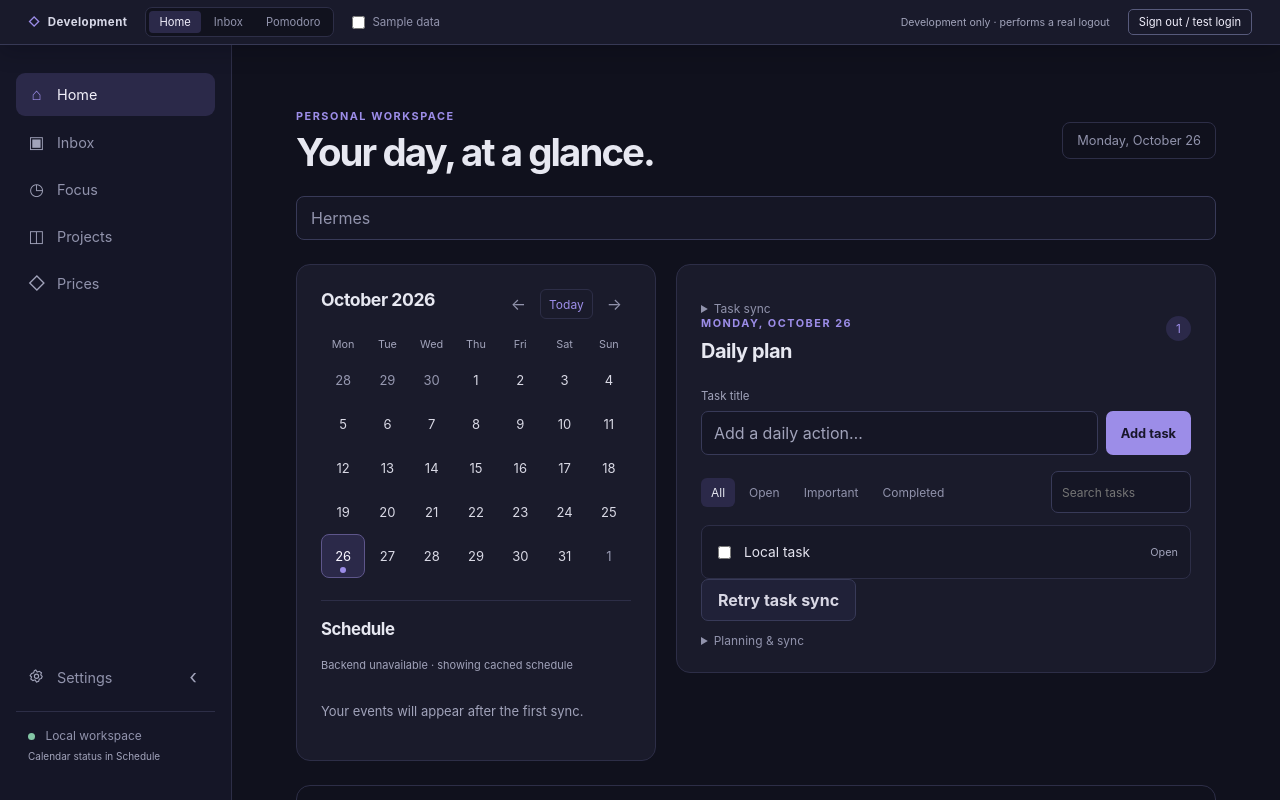
Test case: a genuine external storage edit while a completion waits still fails closed visibly
Click the checkbox named "Complete Local task" at (724, 552), box [718, 546, 731, 559]
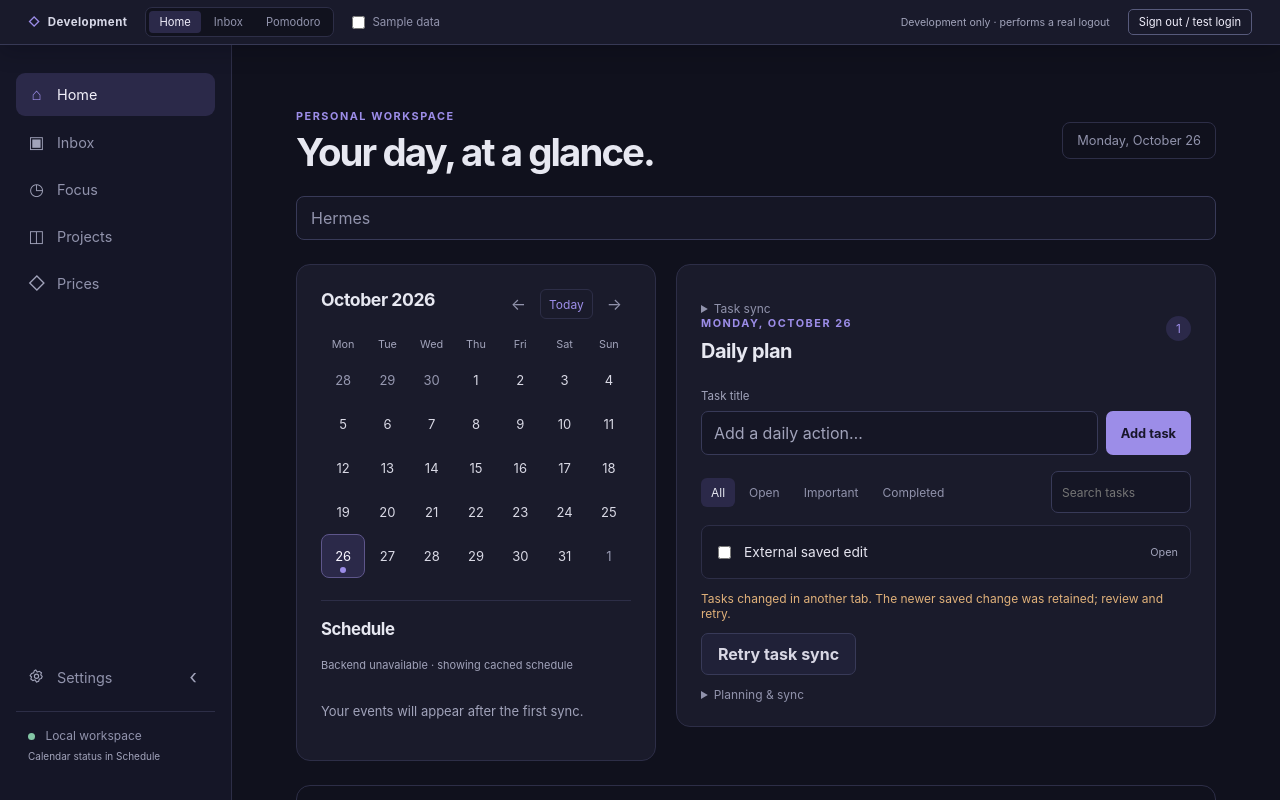
Expected: the 1st message shows "Tasks changed in another tab", [701, 591, 1163, 621]
